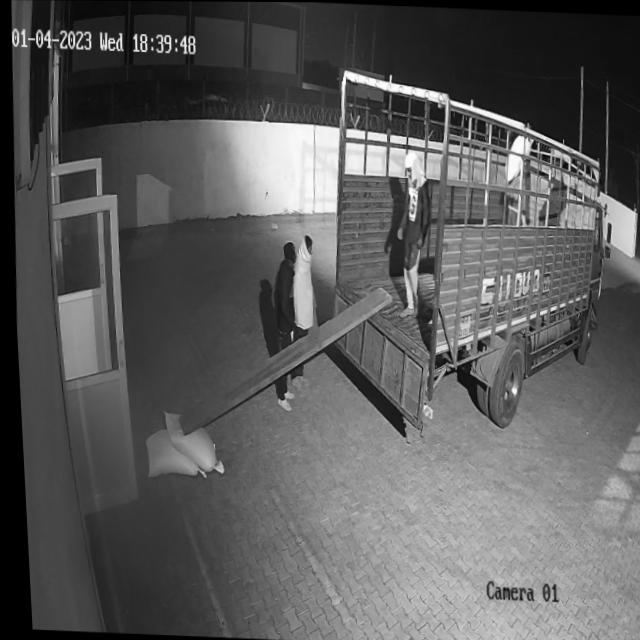sack: (156, 409, 213, 472), (138, 426, 196, 476)
